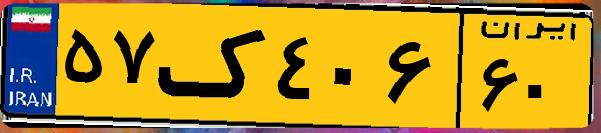0: (330, 28, 385, 110), (525, 38, 570, 115)
4: (270, 28, 330, 110)
5: (57, 26, 110, 100)
6: (385, 28, 445, 110), (475, 38, 525, 113)
7: (110, 28, 158, 98)
ک: (158, 12, 270, 120)
